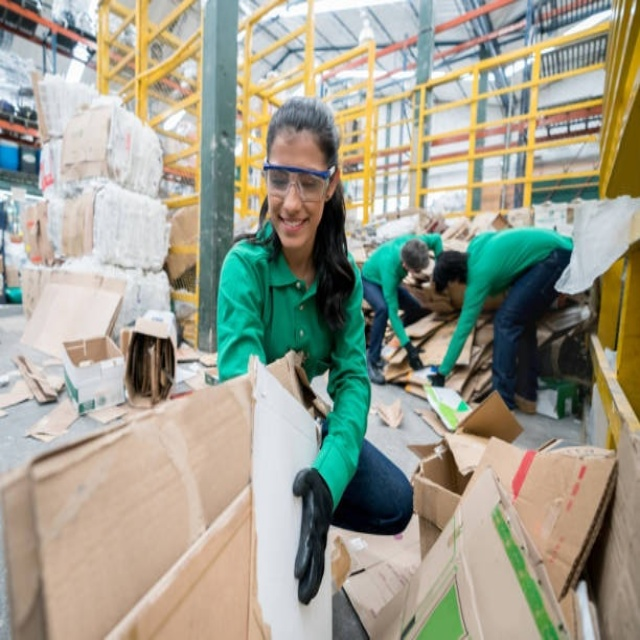Gafas: (261, 162, 337, 204)
Guantes: (289, 466, 339, 607)
Sin_mascara: (273, 214, 311, 245)
